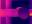Hotspot: (29, 13, 31, 16)
